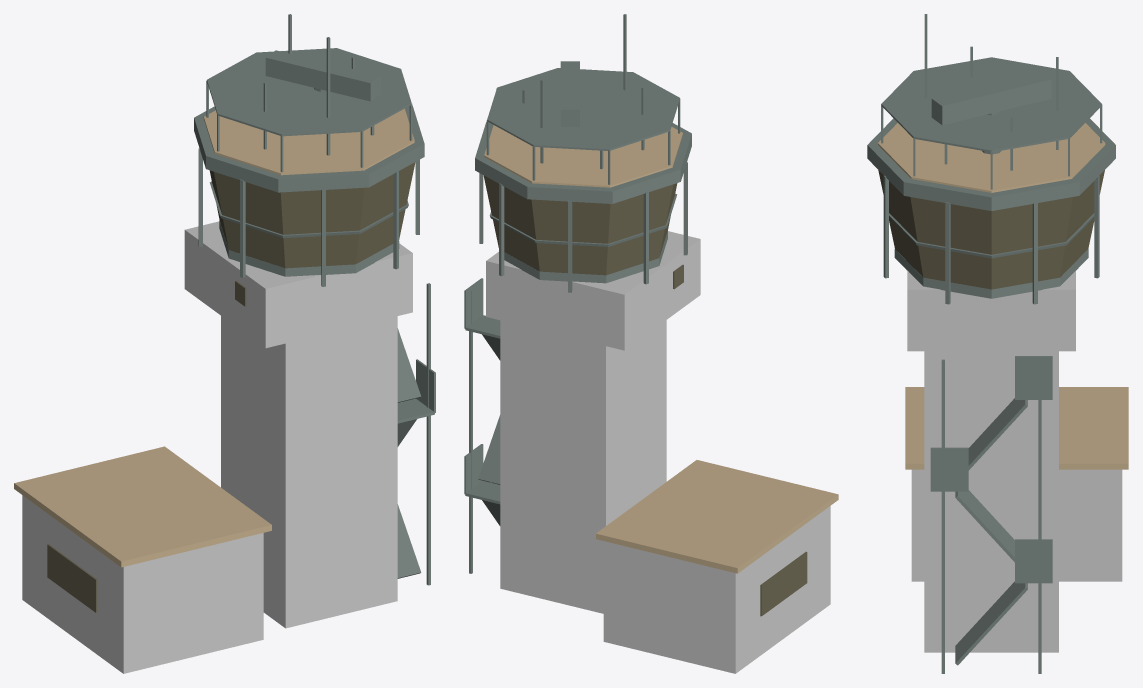
File: SM_TorreControl_v3_LOD0.fbx
3 views of the same model, side by side, from view 1: azimuth 30°, elevation 25°; view 2: azimuth 150°, elevation 25°; view 3: azimuth 270°, elevation 25° (orthographic). The views are drawn at different scales.
Visible parts, largest first — view 1: SM_torre_control_v3_LOD0; view 2: SM_torre_control_v3_LOD0; view 3: SM_torre_control_v3_LOD0.
Part boxes in pixels (x1,y1,x2,y2): SM_torre_control_v3_LOD0: (14,14,435,673); SM_torre_control_v3_LOD0: (464,14,838,673); SM_torre_control_v3_LOD0: (867,14,1128,673).
Size of the model in its own units: 9.5 by 15.81 by 6.2.
